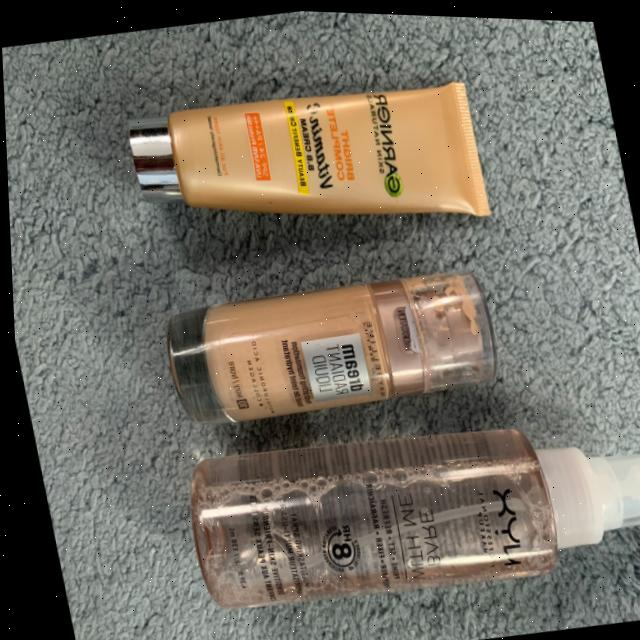bb cream: (92, 37, 541, 279)
foundation: (125, 224, 521, 476)
setting spray: (149, 358, 640, 640)
